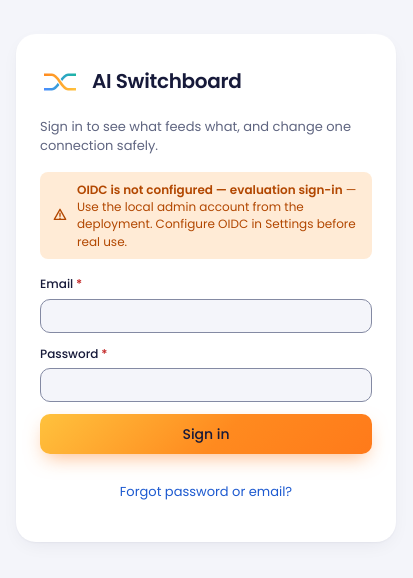
it: Login › continues to /change-password after signing in with a temporary password
Type "ilya@lola.com" into the field labelled "Email *". click: (206, 316)
box: left=40, top=299, right=372, bottom=333
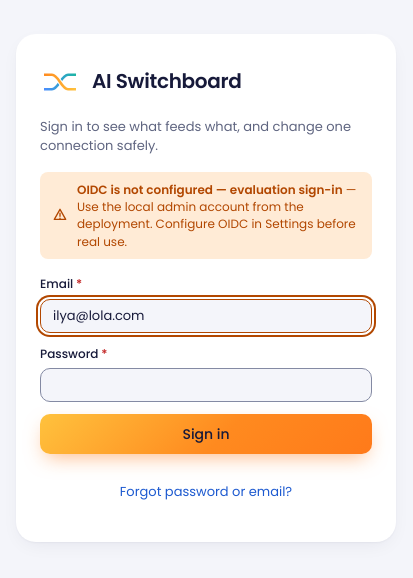
Type "temporary-password-1" into the password field labelled "Password *". click: (206, 385)
box: left=40, top=368, right=372, bottom=402
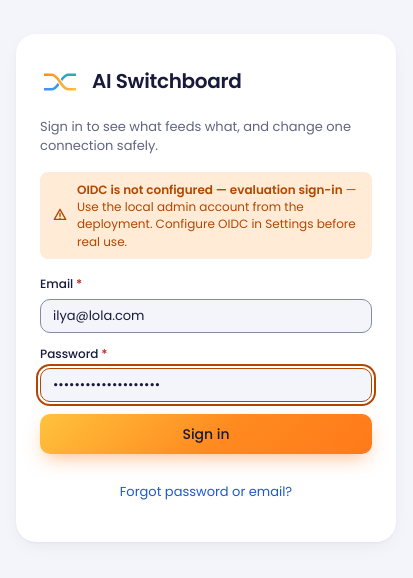
Click the button "Sign in". click: (206, 434)
box: left=40, top=414, right=372, bottom=454
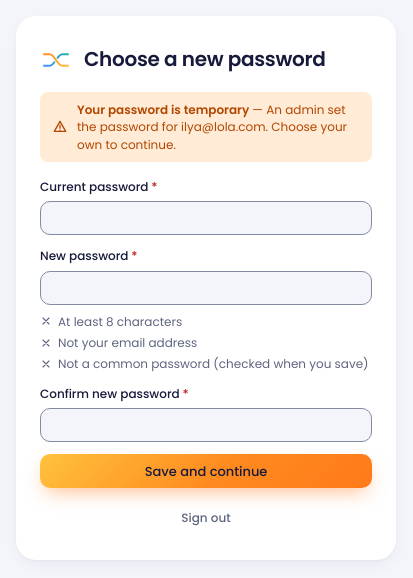
Check: the text "Your password is temporary" is shown, box left=77, top=101, right=249, bottom=118
